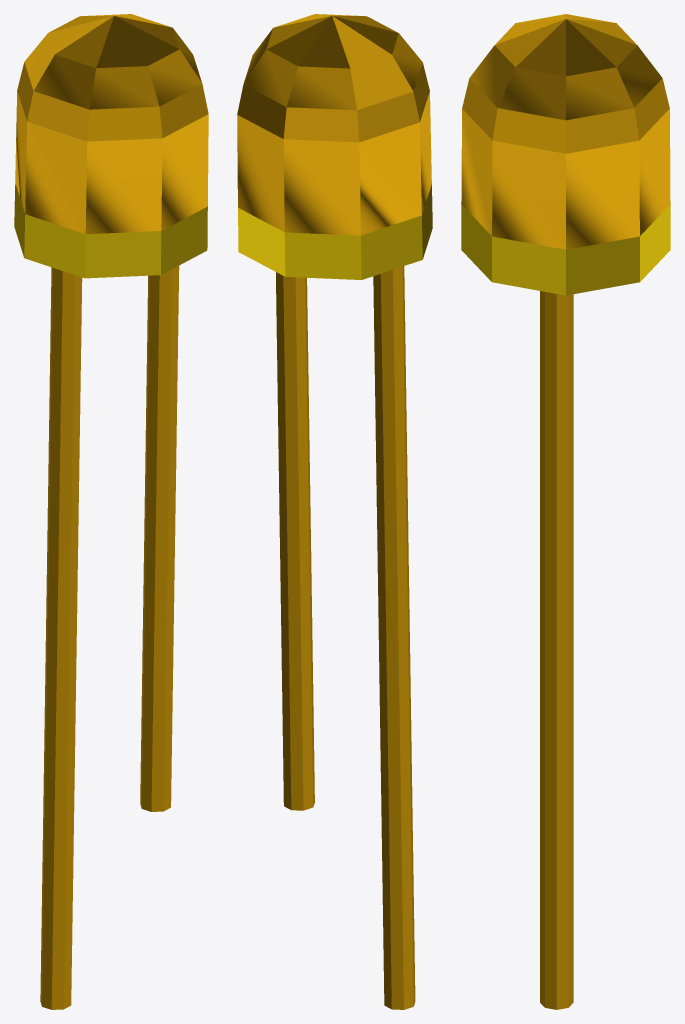
File: LED.fbx
3 views of the same model, side by side, from view 1: azimuth 30°, elevation 25°; view 2: azimuth 150°, elevation 25°; view 3: azimuth 270°, elevation 25° (orthographic). The views are drawn at different scales.
Visible parts, largest first — view 1: Capsule, charges; view 2: Capsule, charges; view 3: Capsule, charges.
Part boxes in pixels (bbox=[...]): Capsule: bbox=[14, 14, 208, 278]; charges: bbox=[40, 266, 179, 1009]; Capsule: bbox=[237, 14, 432, 279]; charges: bbox=[276, 266, 415, 1009]; Capsule: bbox=[461, 14, 670, 295]; charges: bbox=[540, 291, 573, 1009].
Bounding box in the file's own units: 4.69 × 24.9 × 4.66.
